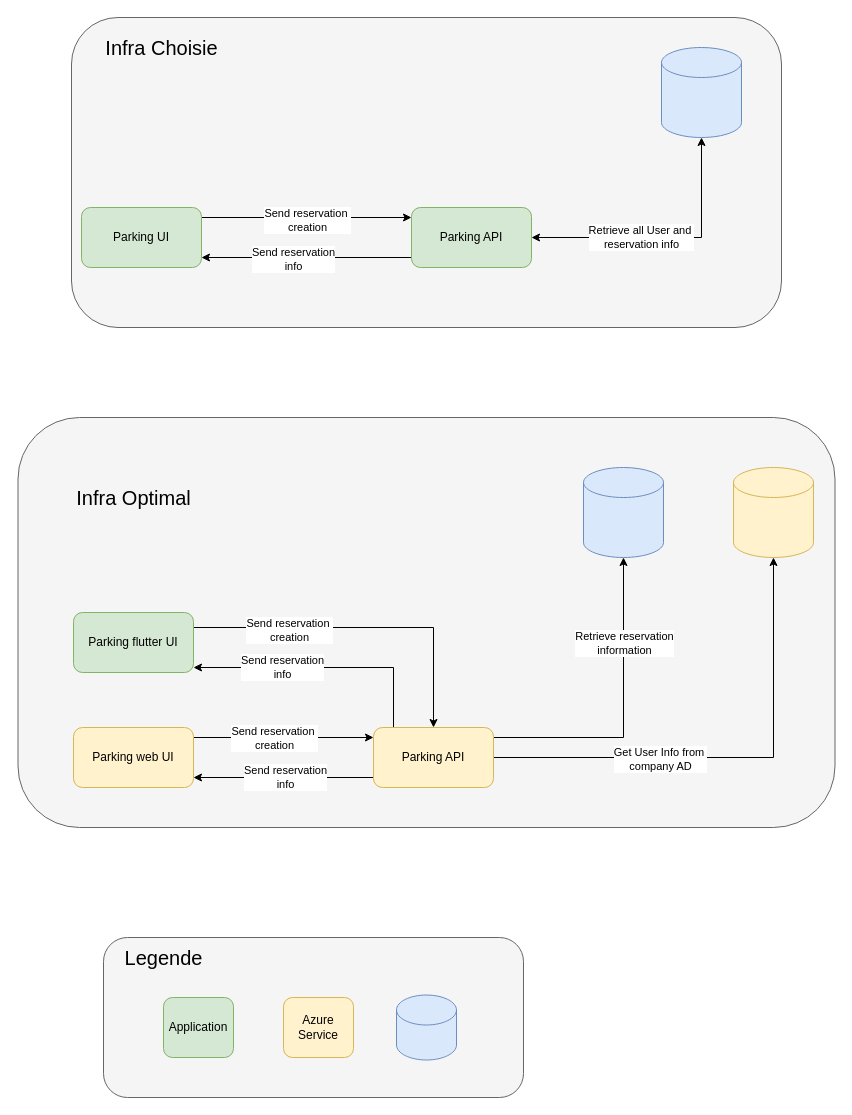
The diagram is 852 pixels wide and 1115 high, and some of its shapes have lost their labels. Each missing label, with the box of its shape:
company AD: (732, 466, 814, 558)
DataBase: (396, 994, 456, 1060)
Parking DB: (660, 46, 742, 138)
Reservation DB: (582, 466, 664, 558)
